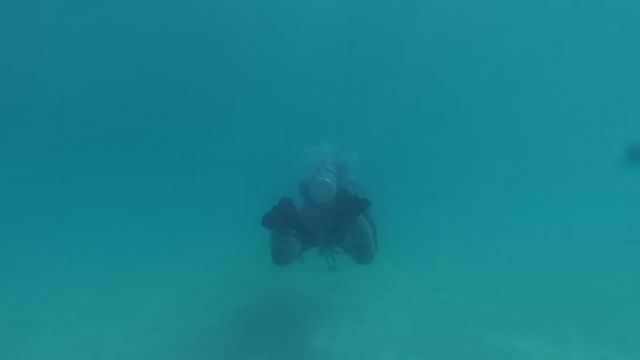Diver: (245, 175, 400, 279)
